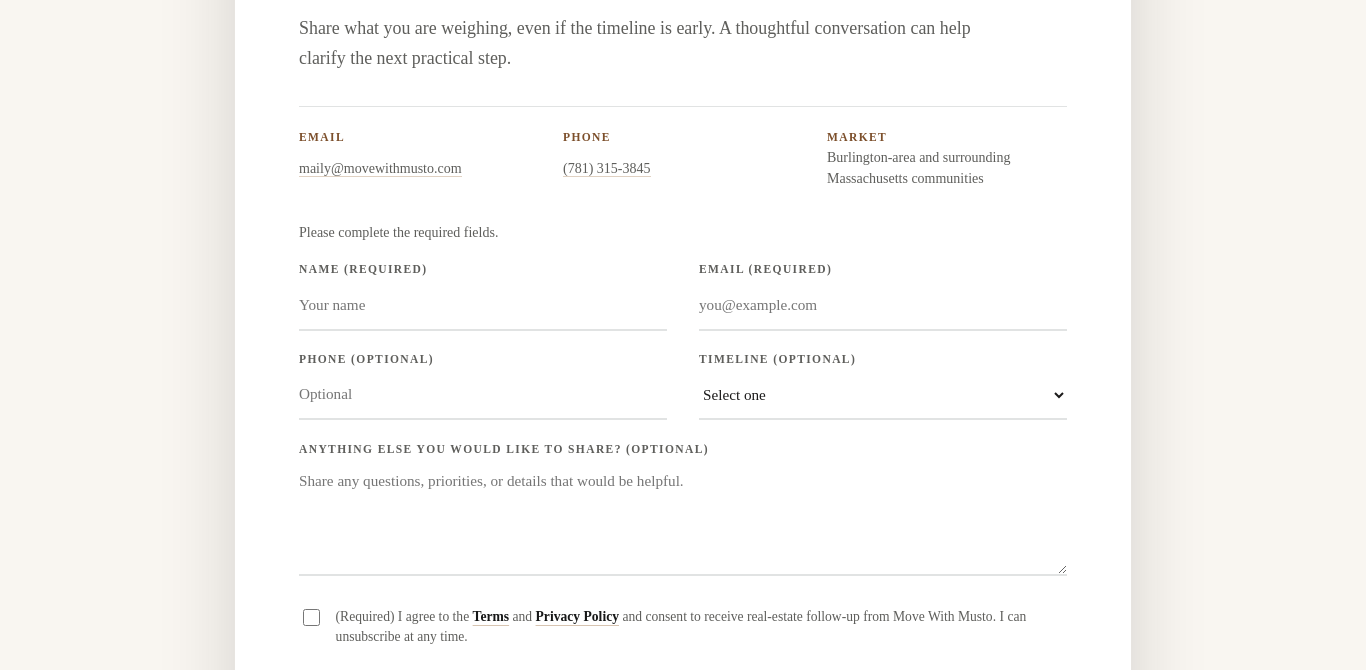
Test: HighEndRealEstateHome › submits a configured contact inquiry endpoint
(page scrolled)
Type "Musto Visitor" into the field labelled "Name (required)" at x=483, y=306, box [299,281,667,331]
(page scrolled)
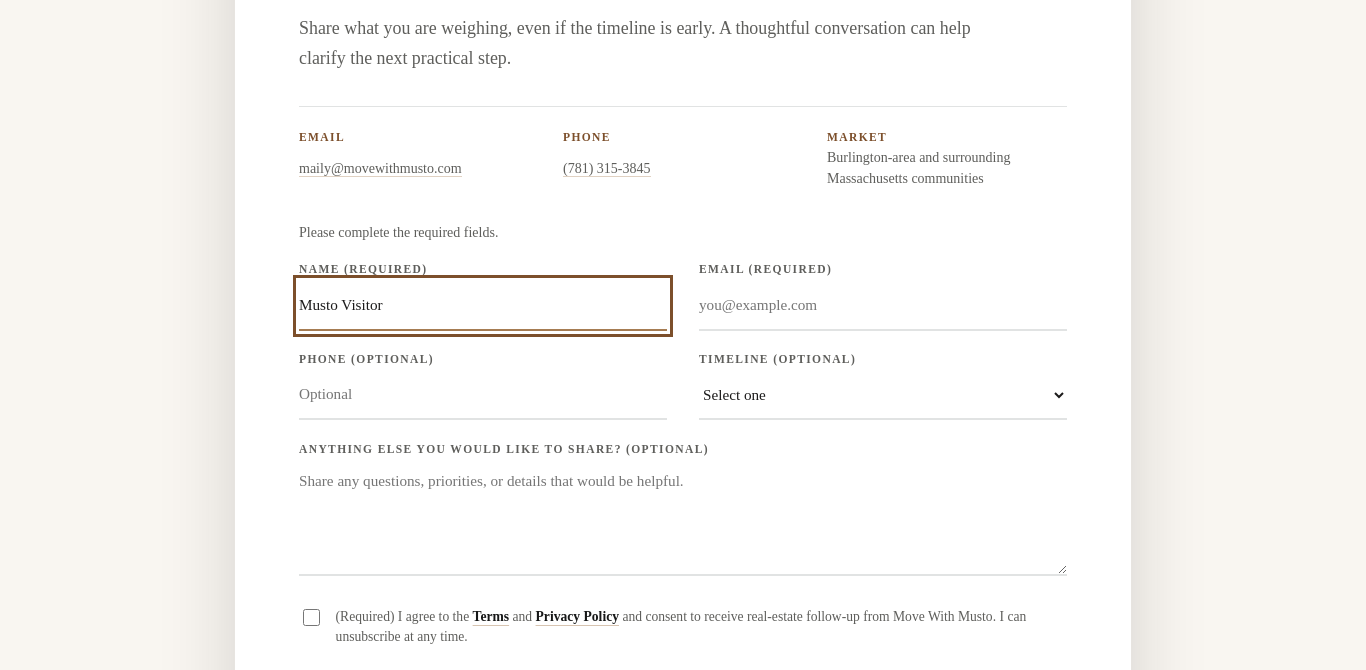
Type "visitor@example.com" into the field labelled "Email (required)" at x=883, y=306, box [699,281,1067,331]
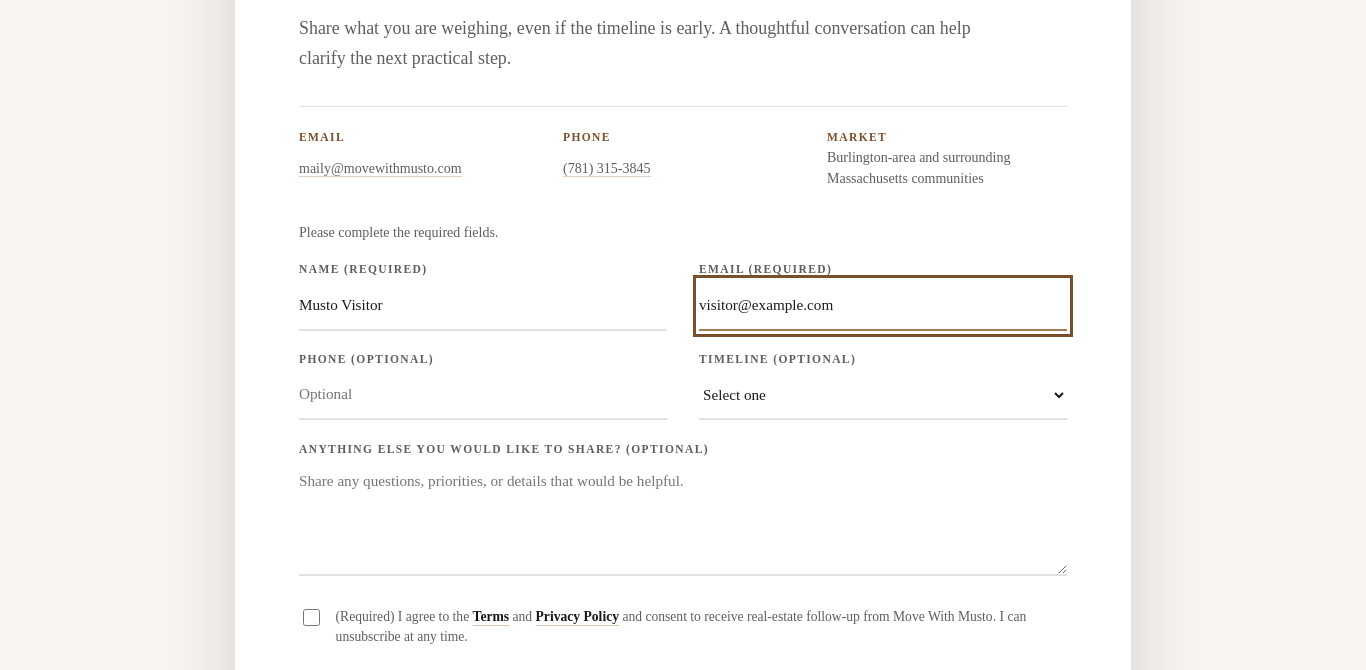
Select "Selling soon" in the dropdown labelled "Timeline (optional)" at x=883, y=396, box [699,371,1067,421]
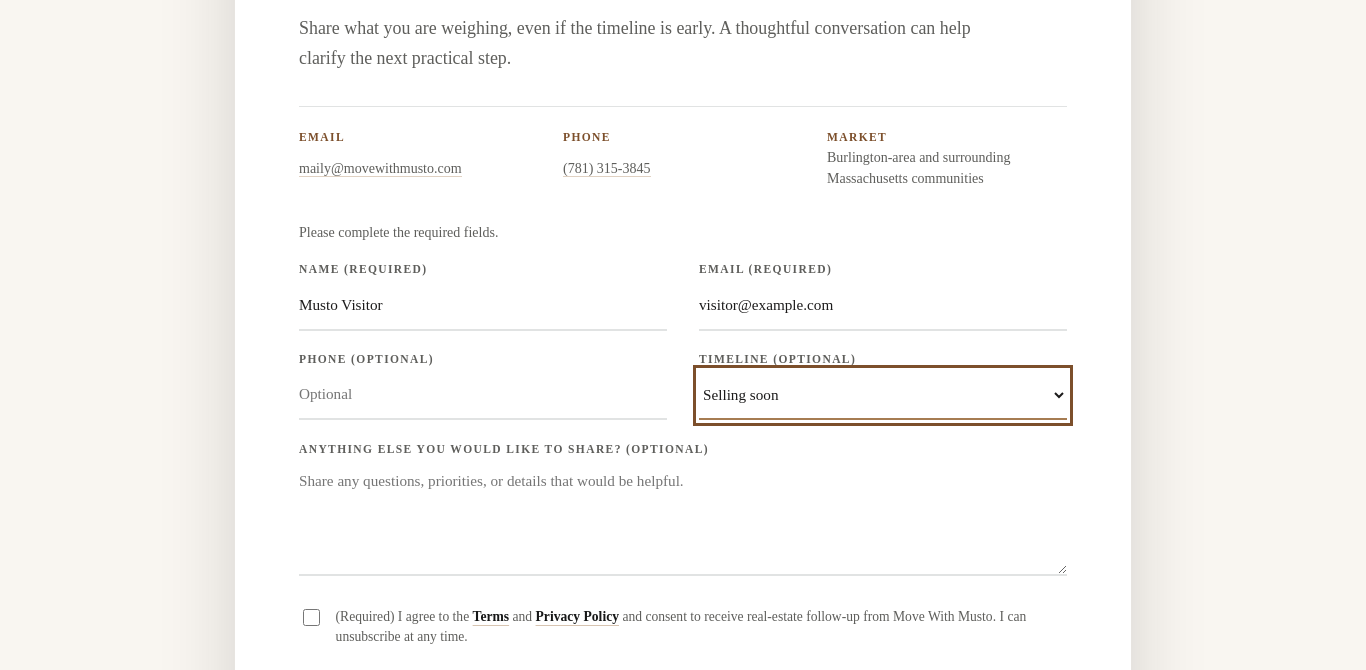
Type "I am thinking about selling." into the text box labelled "Anything else you would like to share? (optional)" at x=683, y=519, box [299,461,1067,577]
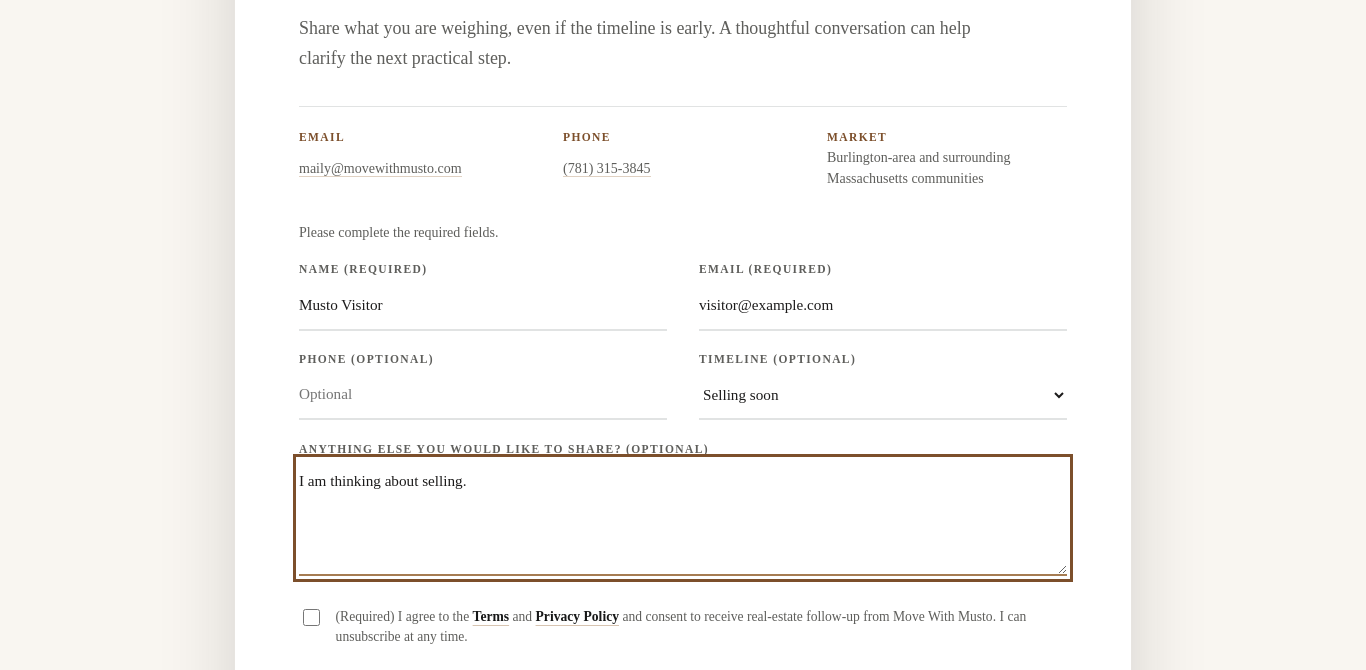
Click the checkbox labelled "Terms" at x=311, y=618, box [303,609,320,626]
(page scrolled)
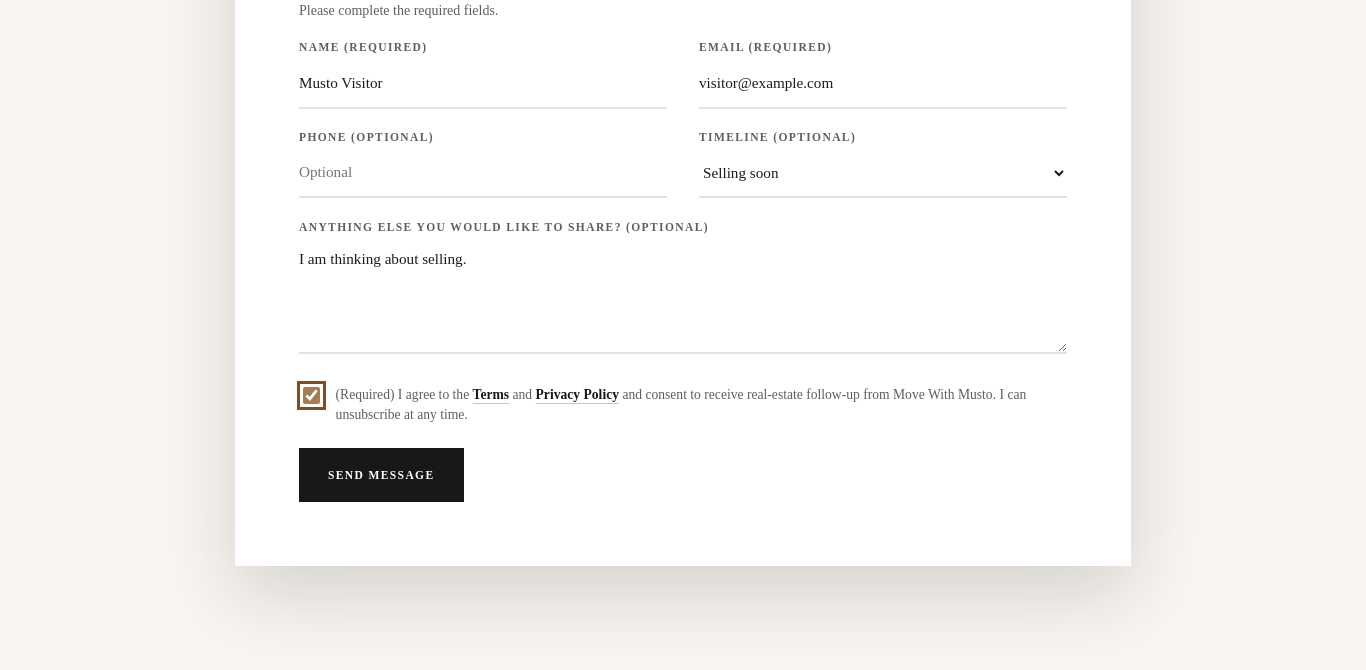
Click the button "Send message" at x=381, y=475, box [299,448,464,502]
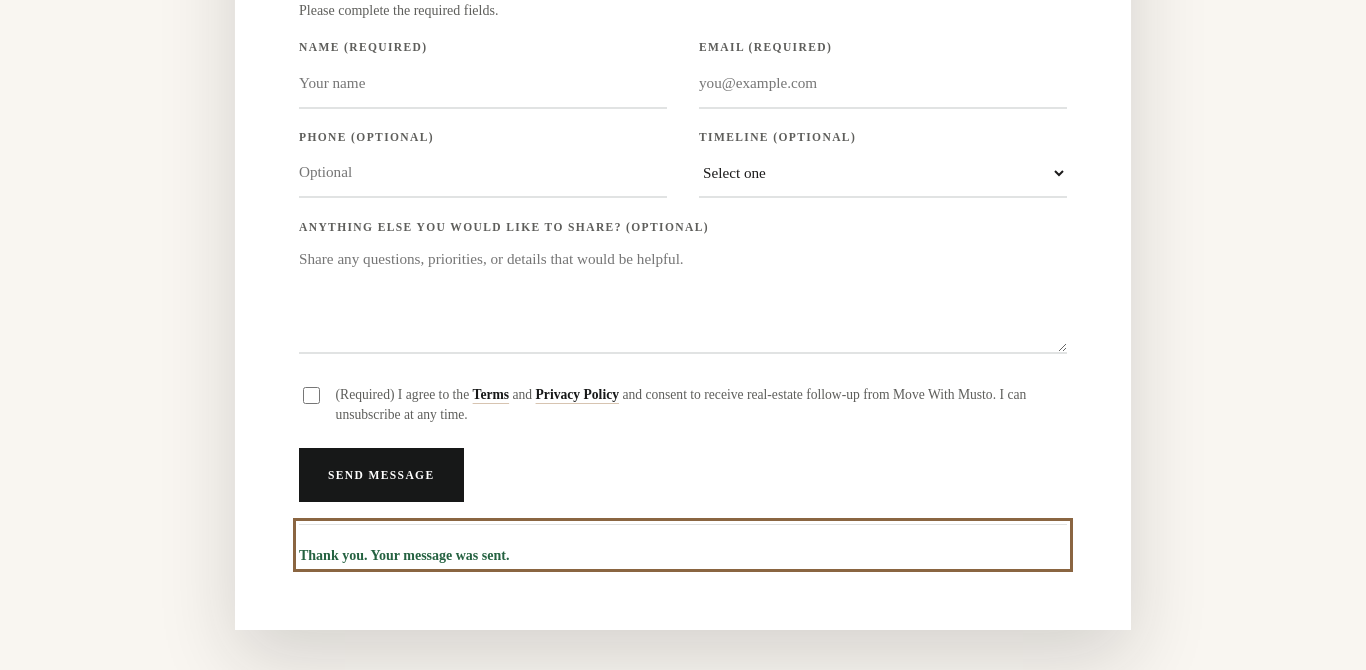
Check: the message shows "Your message was sent", box [299,549,509,564]
